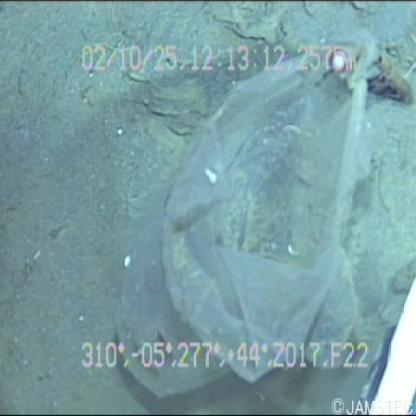Rác: (108, 23, 388, 409)
